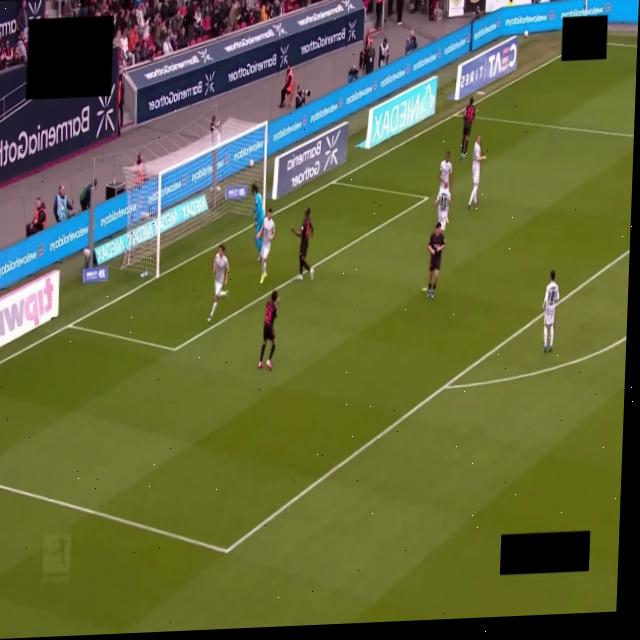player: (291, 208, 313, 280), (258, 291, 278, 369), (208, 245, 228, 321), (433, 152, 451, 230), (542, 271, 559, 352), (467, 136, 485, 209), (426, 221, 443, 298), (258, 209, 274, 283), (252, 184, 264, 259), (460, 97, 474, 160)
